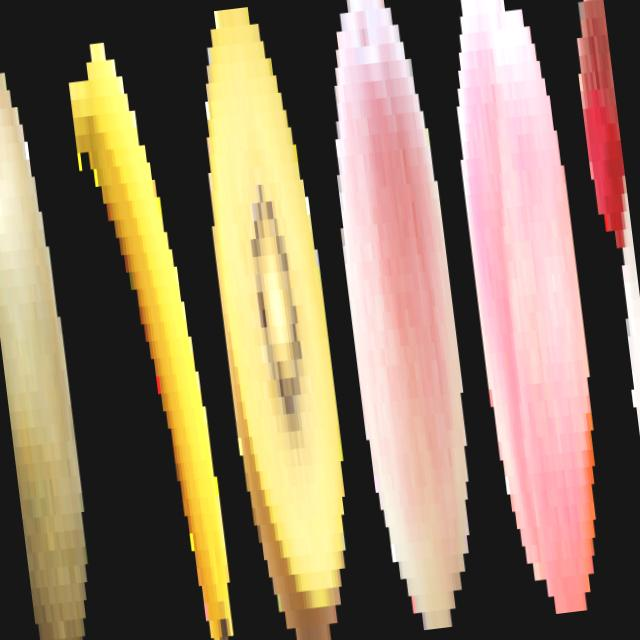bananas: (59, 17, 238, 640)
kiwifruit: (180, 1, 367, 640), (0, 33, 106, 640)
peach: (433, 0, 620, 619), (309, 0, 491, 634)
